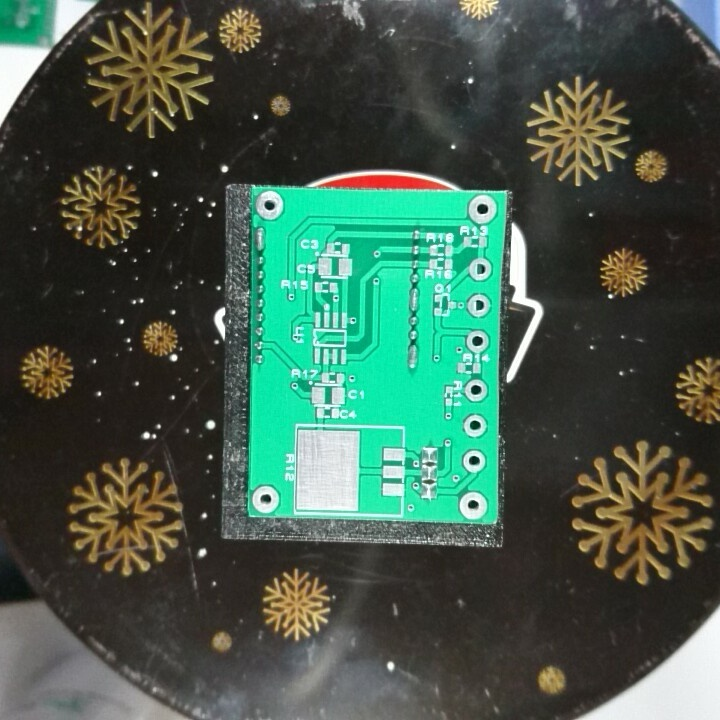F: (252, 186, 287, 222), (466, 191, 499, 227), (457, 489, 491, 521), (249, 483, 282, 515), (465, 290, 494, 321), (465, 254, 494, 284), (459, 447, 489, 475), (464, 328, 493, 356), (461, 412, 489, 441), (462, 376, 490, 403)
P: (253, 223, 268, 253), (405, 342, 421, 369), (407, 285, 420, 312)
